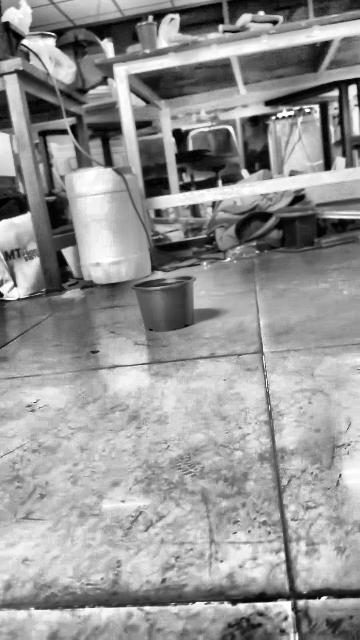pot: (133, 276, 195, 331)
